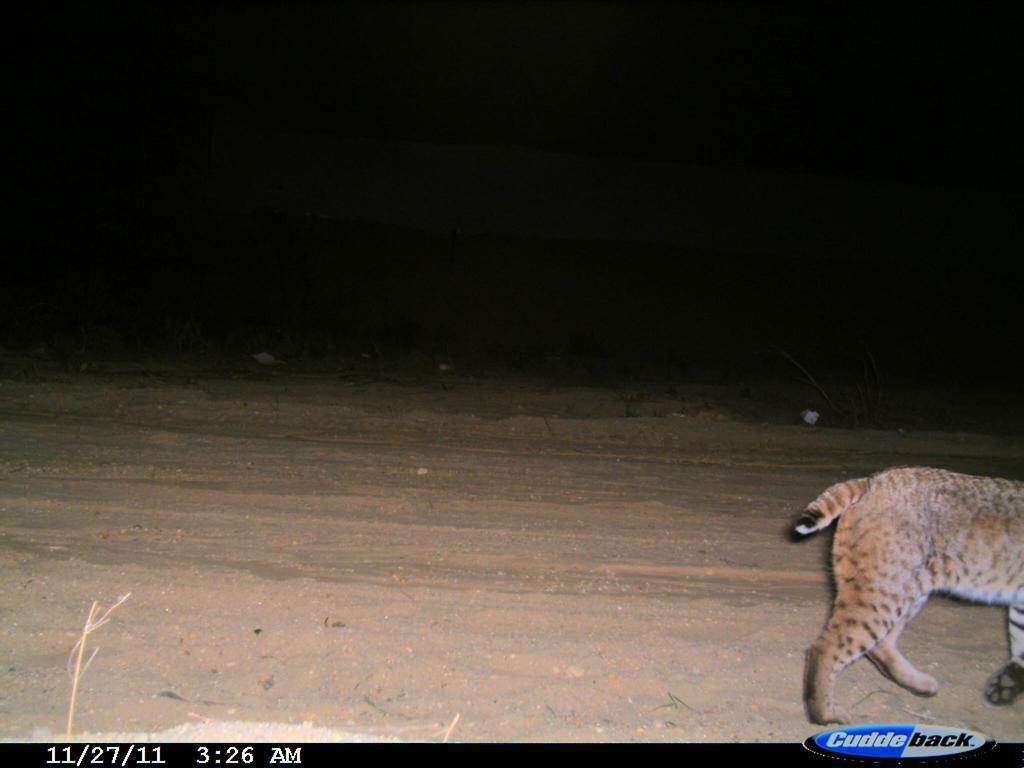bobcat: (788, 443, 1024, 740)
